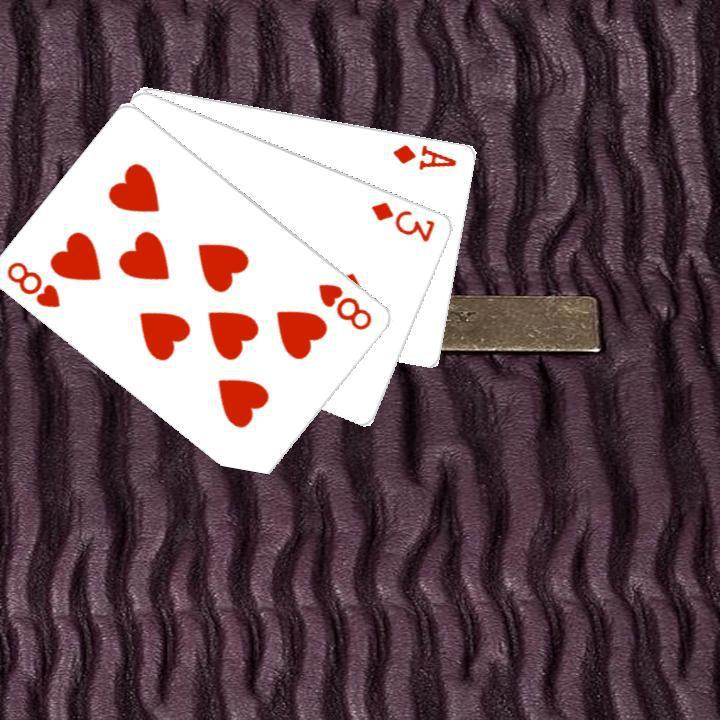3: (367, 197, 438, 244)
8: (314, 279, 375, 333), (2, 256, 63, 310)
A: (389, 140, 459, 172)
